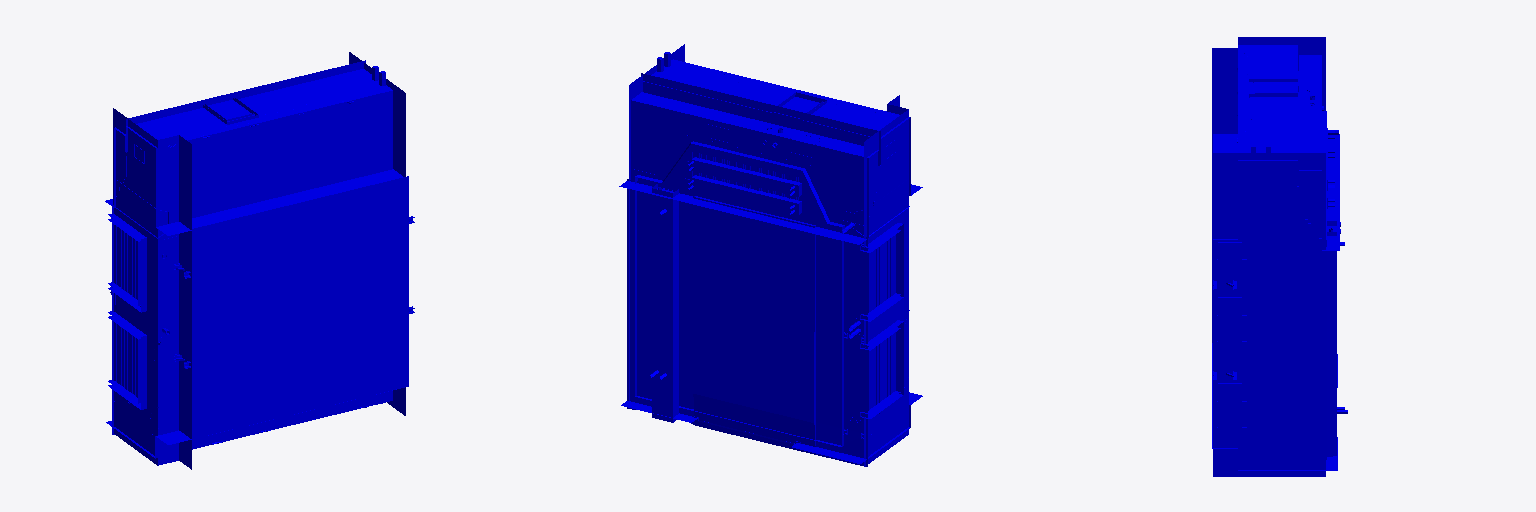
Rendered from hangar.obj.
3 renders of one model, left to right at view 1: azimuth 30°, elevation 25°; view 2: azimuth 150°, elevation 25°; view 3: azimuth 270°, elevation 25°, orthographic.
Parts seen in each view (by area): view 1: 3D_Object_1; view 2: 3D_Object_1; view 3: 3D_Object_1.
Boxes of the visible parts, x1=… form: 3D_Object_1: x1=105, y1=52, x2=414, y2=469; 3D_Object_1: x1=619, y1=44, x2=922, y2=466; 3D_Object_1: x1=1212, y1=37, x2=1347, y2=476.
Bounding box in the file's own units: 29.07 × 36.68 × 13.57.